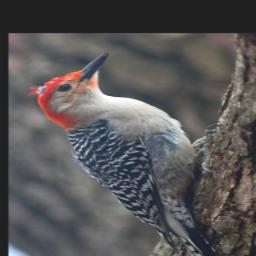Woodpecker: (28, 53, 222, 256)
